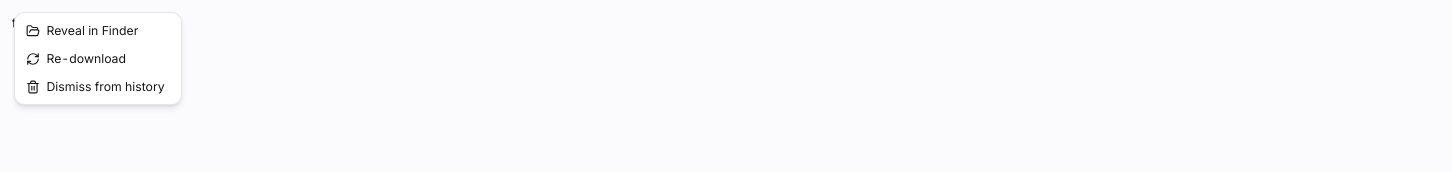
Test case: LibraryTileMenu toasts › shows an error toast when reveal fails
The image size is (1452, 172).
What coordinates should you click on to do the following:
click the menu item "Reveal in Finder"
I would click on:
 (82, 30)
Its box is [26,23,138,38].
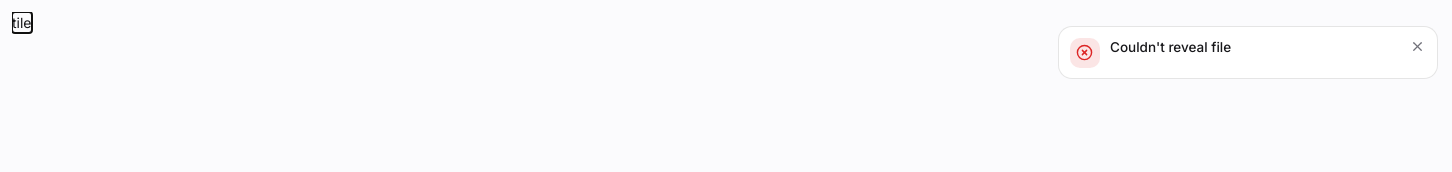
Now the text "Couldn't reveal file" is shown, box [1110,38,1231,54]
